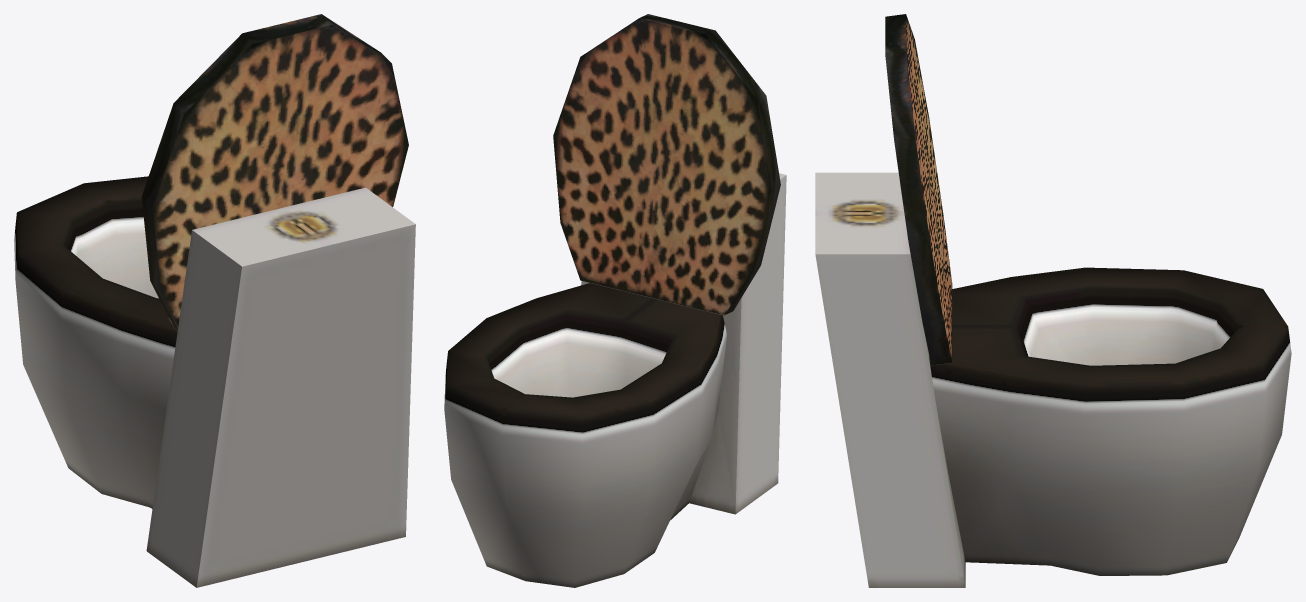
The model's file is furni_0200084.FBX.
3 renders of one model, left to right at view 1: azimuth 30°, elevation 25°; view 2: azimuth 150°, elevation 25°; view 3: azimuth 270°, elevation 25°, orthographic. The views are drawn at different scales.
Visible parts, largest first — view 1: furni_0200084; view 2: furni_0200084; view 3: furni_0200084.
Boxes of the visible parts, <box> form: furni_0200084: <box>14,14,415,587</box>; furni_0200084: <box>444,14,786,587</box>; furni_0200084: <box>815,14,1291,587</box>.
Bounding box in the file's own units: 54.1 × 106 × 90.2.
